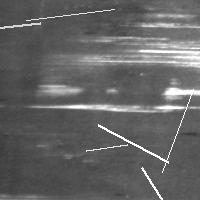scratches: (24, 82, 199, 115), (157, 84, 198, 177), (93, 120, 173, 167), (64, 41, 199, 68), (21, 4, 119, 25), (136, 162, 182, 200), (81, 139, 132, 155), (0, 18, 45, 34)
